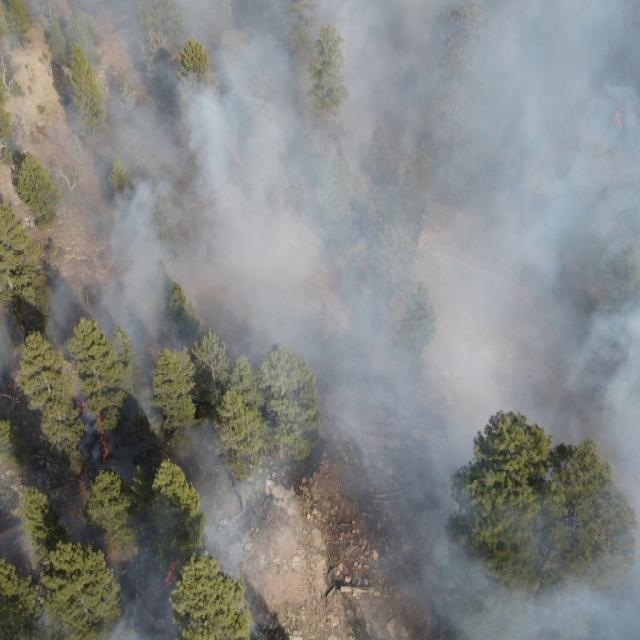fire: (78, 397, 112, 467), (162, 555, 180, 589), (0, 377, 18, 403), (612, 109, 626, 132)
smoke: (0, 0, 640, 640)
